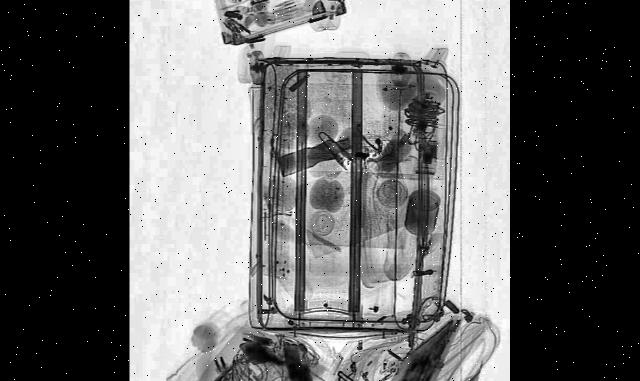Scissors: (317, 120, 354, 176)
